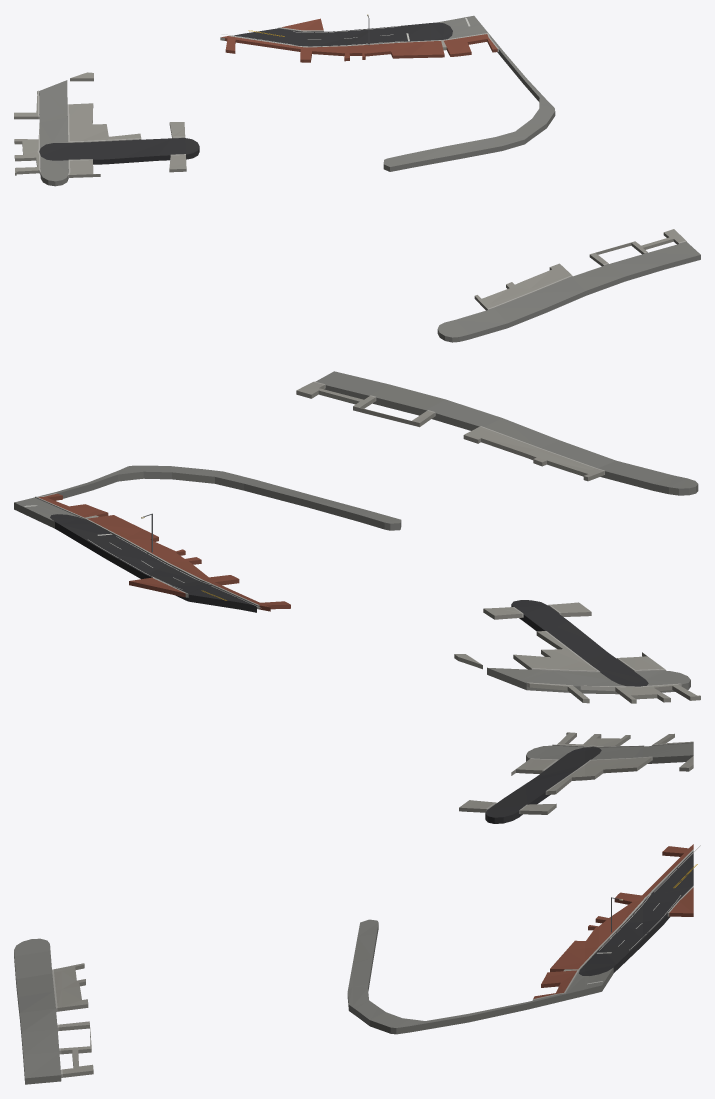
The picture shows the model from 3 angles, top to bottom: view 1: azimuth 30°, elevation 25°; view 2: azimuth 150°, elevation 25°; view 3: azimuth 270°, elevation 25°; orthographic projection. The views are drawn at different scales.
Size of the model in its own units: 119 by 28.19 by 118.
